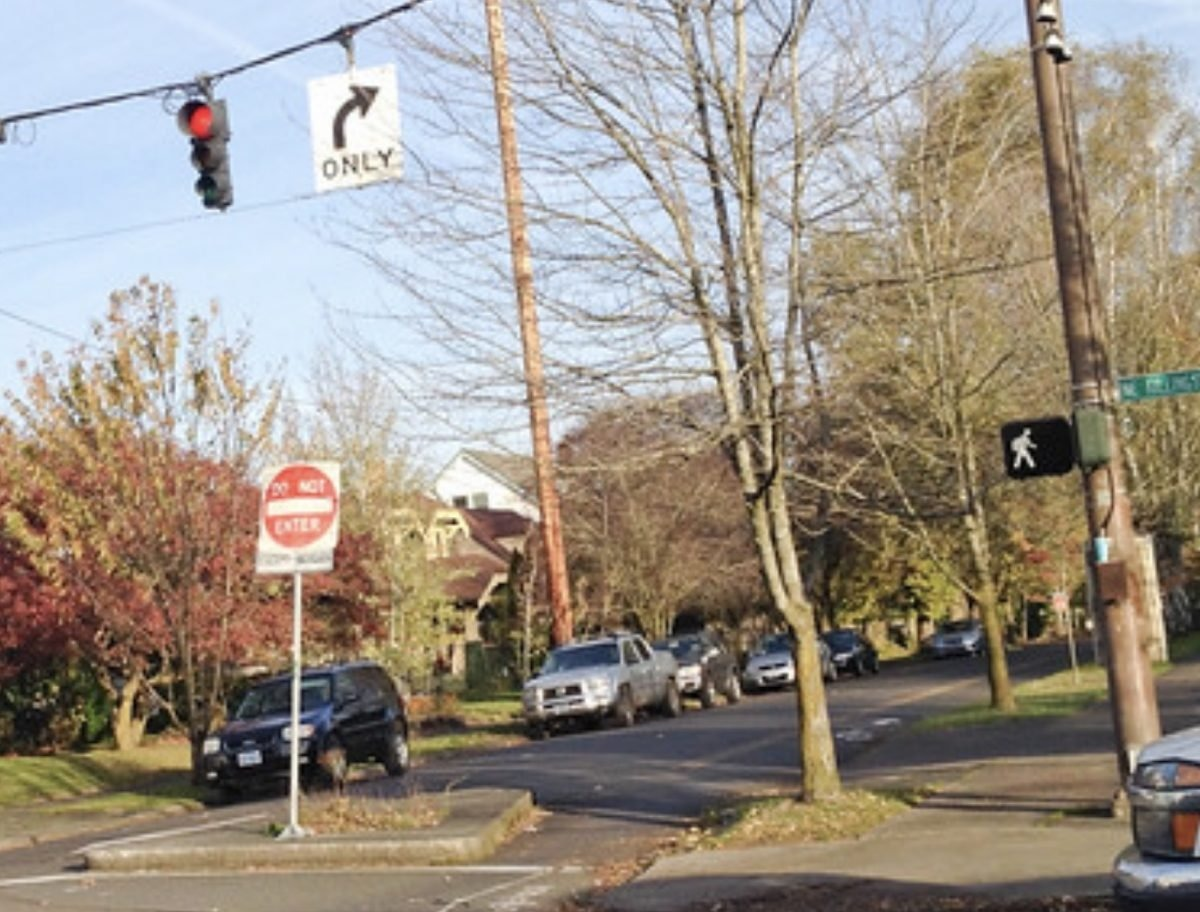car: (203, 660, 409, 793), (523, 632, 681, 735), (1113, 725, 1199, 911), (652, 630, 740, 707), (742, 632, 793, 691), (819, 645, 829, 671)
pedestrian_walk: (997, 414, 1088, 483)
pole: (1022, 0, 1160, 776), (967, 508, 1015, 713)
vegetation: (735, 437, 839, 799), (505, 171, 573, 645), (255, 461, 339, 838), (495, 86, 515, 167)
